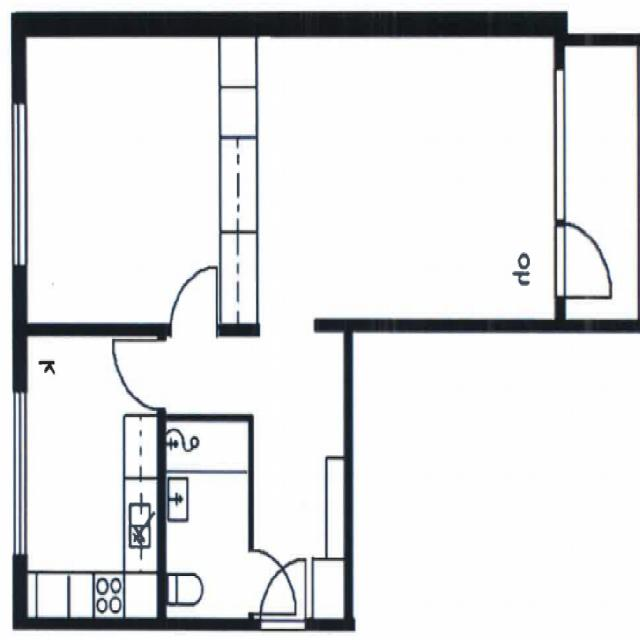door: (552, 226, 615, 295), (170, 250, 218, 332), (113, 340, 166, 406), (260, 555, 304, 628), (248, 551, 295, 611)
